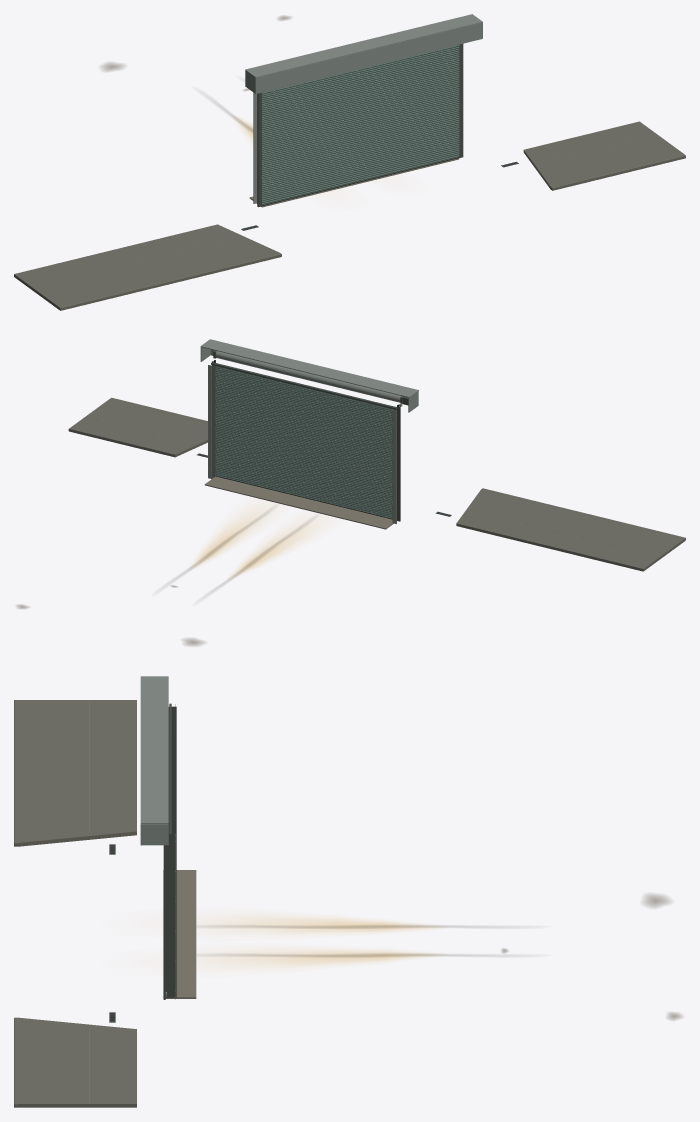
The model's file is workshop-departure.glb.
The picture shows the model from 3 angles, top to bottom: view 1: azimuth 30°, elevation 25°; view 2: azimuth 150°, elevation 25°; view 3: azimuth 270°, elevation 25°; orthographic projection. The views are drawn at different scales.
Parts seen in each view (by area): view 1: Vereda recortada Oeste, Vereda recortada Este, Chapa frontal del casete, Tapa superior del casete, Cordon de vereda Oeste, Cordon de vereda Este, Guia plegada L, Guia plegada R, Brida de jamba L, E31_Slat_12, E31_Slat_18, E31_Slat_24 (+56 smaller); view 2: Vereda recortada Oeste, Vereda recortada Este, E31_DepartureBeam, Tapa superior del casete, Umbral enrasado, E31_RollerDrum, E31_ConcreteWear, Jamba a mamposteria R, Dintel y peine de entrada, Cordon de vereda Oeste; view 3: Vereda recortada Oeste, Vereda recortada Este, E31_DepartureBeam, Tapa superior del casete, Umbral enrasado, Jamba a mamposteria R, E31_ConcreteWear, Jamba a mamposteria L, Cordon de vereda Oeste.
Part boxes in pixels (<box>): Vereda recortada Oeste: <box>14,224,279,309</box>; Vereda recortada Este: <box>523,121,683,188</box>; Chapa frontal del casete: <box>255,22,482,93</box>; Tapa superior del casete: <box>245,14,482,77</box>; Cordon de vereda Oeste: <box>58,252,281,310</box>; Cordon de vereda Este: <box>550,154,685,190</box>; Guia plegada L: <box>257,93,261,207</box>; Guia plegada R: <box>459,43,463,157</box>; Brida de jamba L: <box>253,92,257,203</box>; E31_Slat_12: <box>262,134,459,183</box>; E31_Slat_18: <box>262,122,459,172</box>; E31_Slat_24: <box>262,111,459,160</box>; Vereda recortada Oeste: <box>456,489,684,571</box>; Vereda recortada Este: <box>68,399,207,457</box>; E31_DepartureBeam: <box>191,503,327,577</box>; Tapa superior del casete: <box>200,339,418,397</box>; Umbral enrasado: <box>204,476,393,529</box>; E31_RollerDrum: <box>215,351,401,402</box>; E31_ConcreteWear: <box>16,515,305,645</box>; Jamba a mamposteria R: <box>211,365,215,478</box>; Dintel y peine de entrada: <box>211,362,397,409</box>; Cordon de vereda Oeste: <box>481,488,685,541</box>; Vereda recortada Oeste: <box>19,700,136,846</box>; Vereda recortada Este: <box>18,1017,136,1107</box>; E31_DepartureBeam: <box>197,914,439,969</box>; Tapa superior del casete: <box>140,676,168,823</box>; Umbral enrasado: <box>163,870,196,998</box>; Jamba a mamposteria R: <box>165,834,176,997</box>; E31_ConcreteWear: <box>228,894,682,1020</box>; Jamba a mamposteria L: <box>168,706,176,833</box>; Cordon de vereda Oeste: <box>14,700,18,846</box>.
Size of the model in its own units: 21.75 by 4.81 by 15.29.
